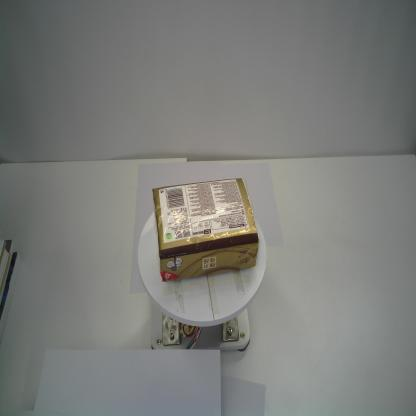Tissue: (152, 177, 260, 283)
